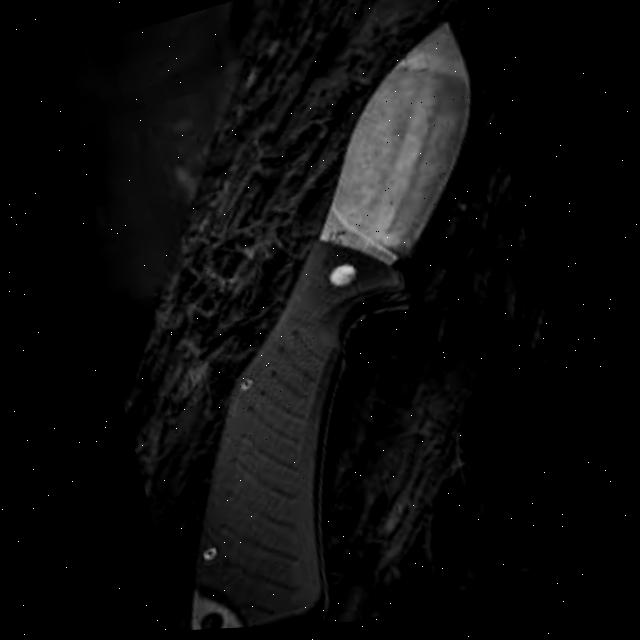Knife: (64, 14, 590, 637)
